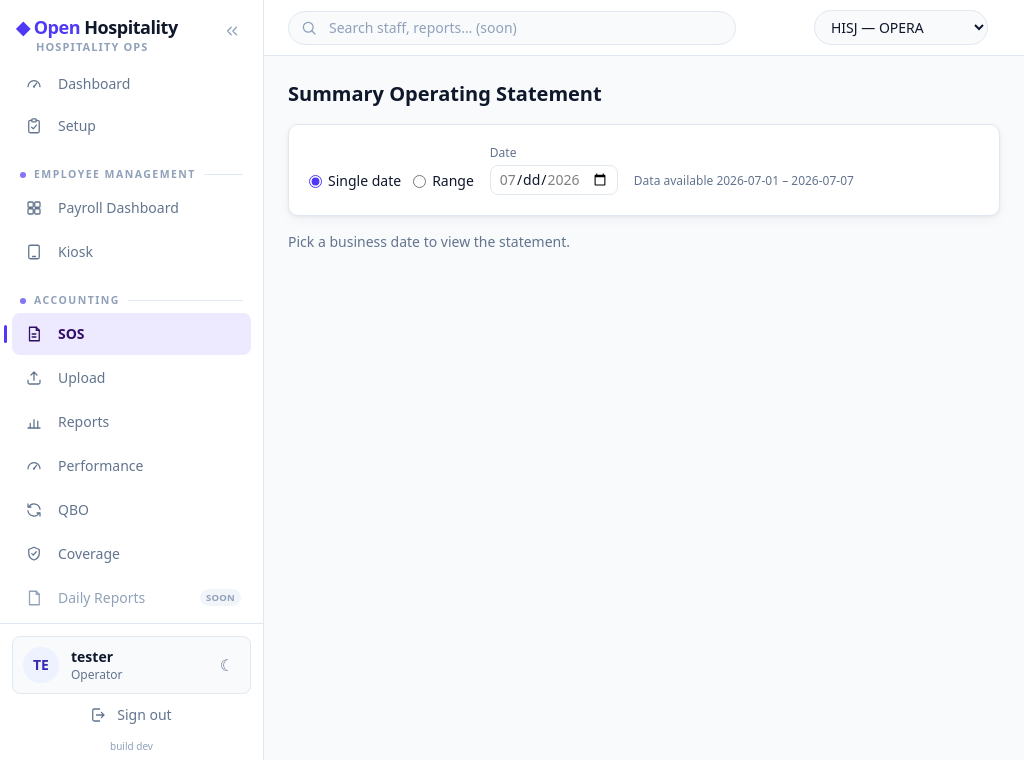
Test: SosPage › constrains the date input to the property date span and fetches the SOS
Select "HISJ — OPERA" in the dropdown named "Active property". click: (901, 28)
box: [814,10,988,45]
Type "2026-07-07" into the date field labelled "Date". click: (554, 180)
box: [490,165,618,195]
(page scrolled)
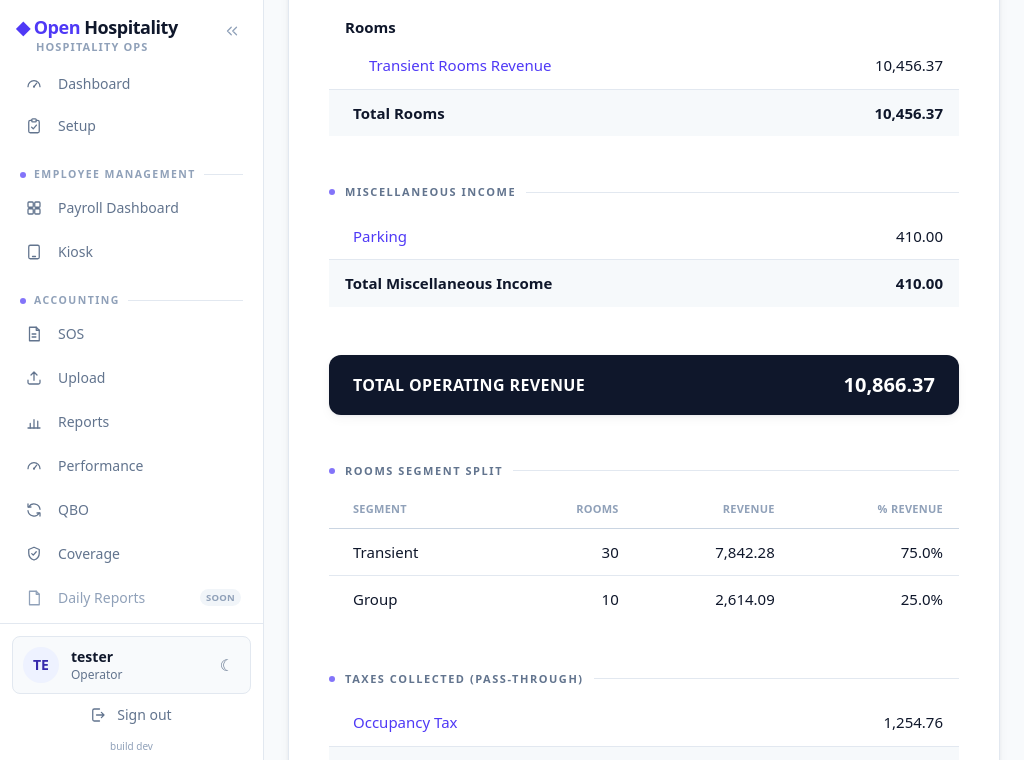
expect the text "10,866.37" is shown: met, box [844,370,935,398]
